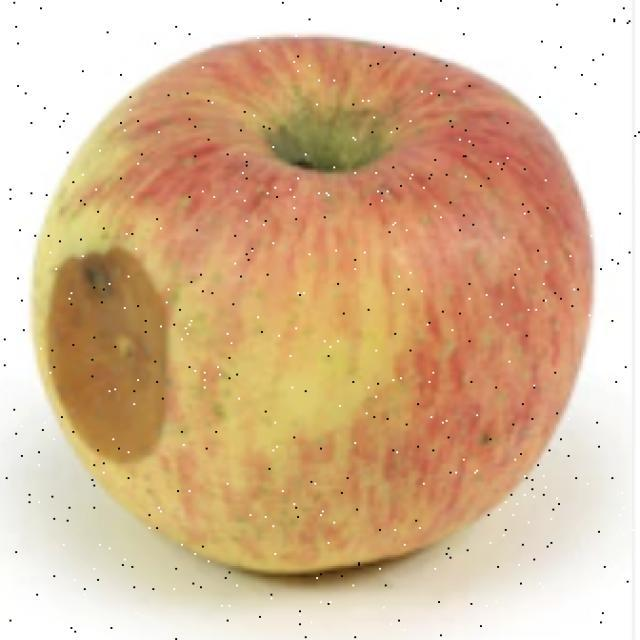Rotten: (62, 45, 580, 575)
